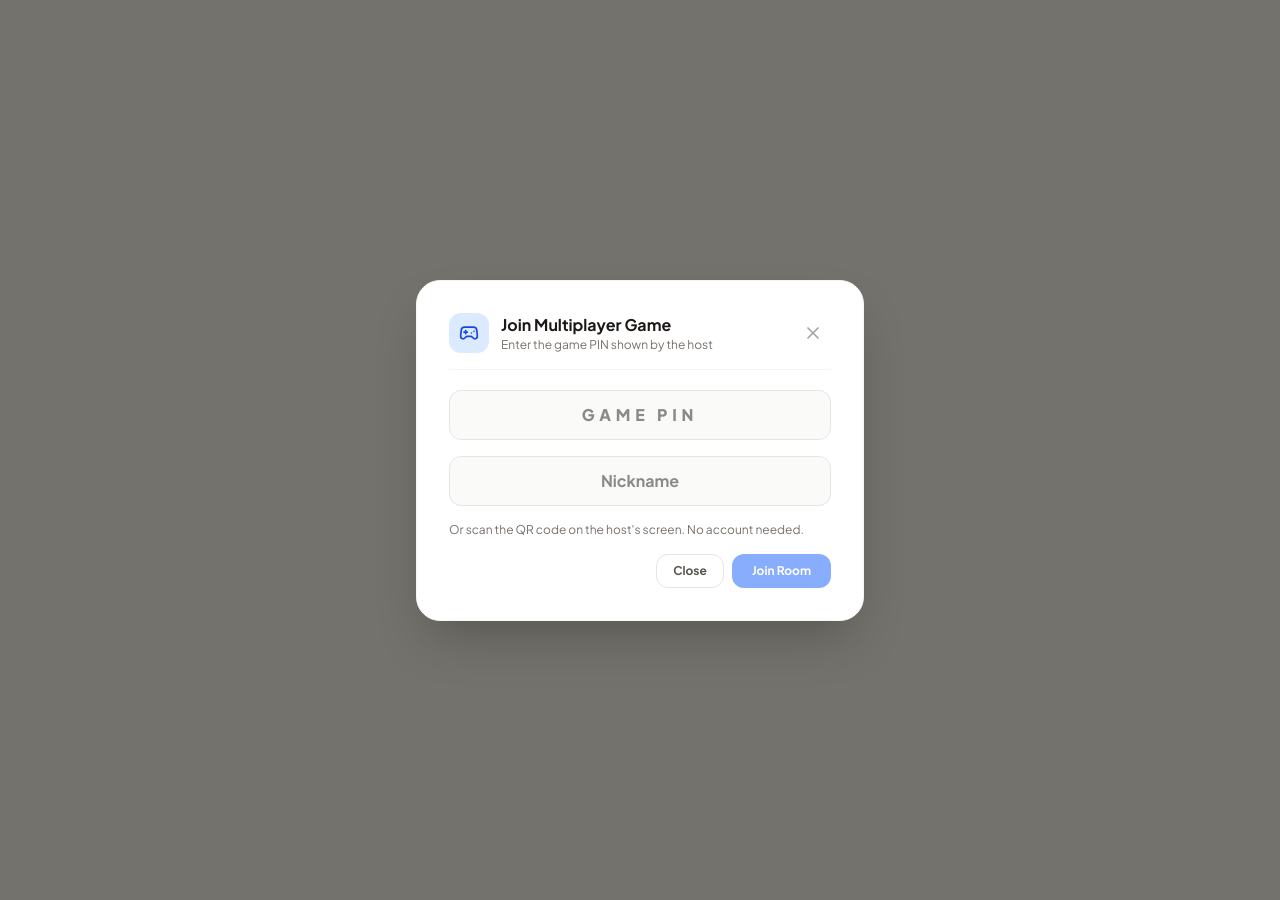
Test: JoinGameModal › keeps only six digits and enables join once the PIN is complete
The image size is (1280, 900).
Type "12ab34" into the field with test id "join-game-code-input". click: point(640, 414)
box: [449, 390, 831, 440]
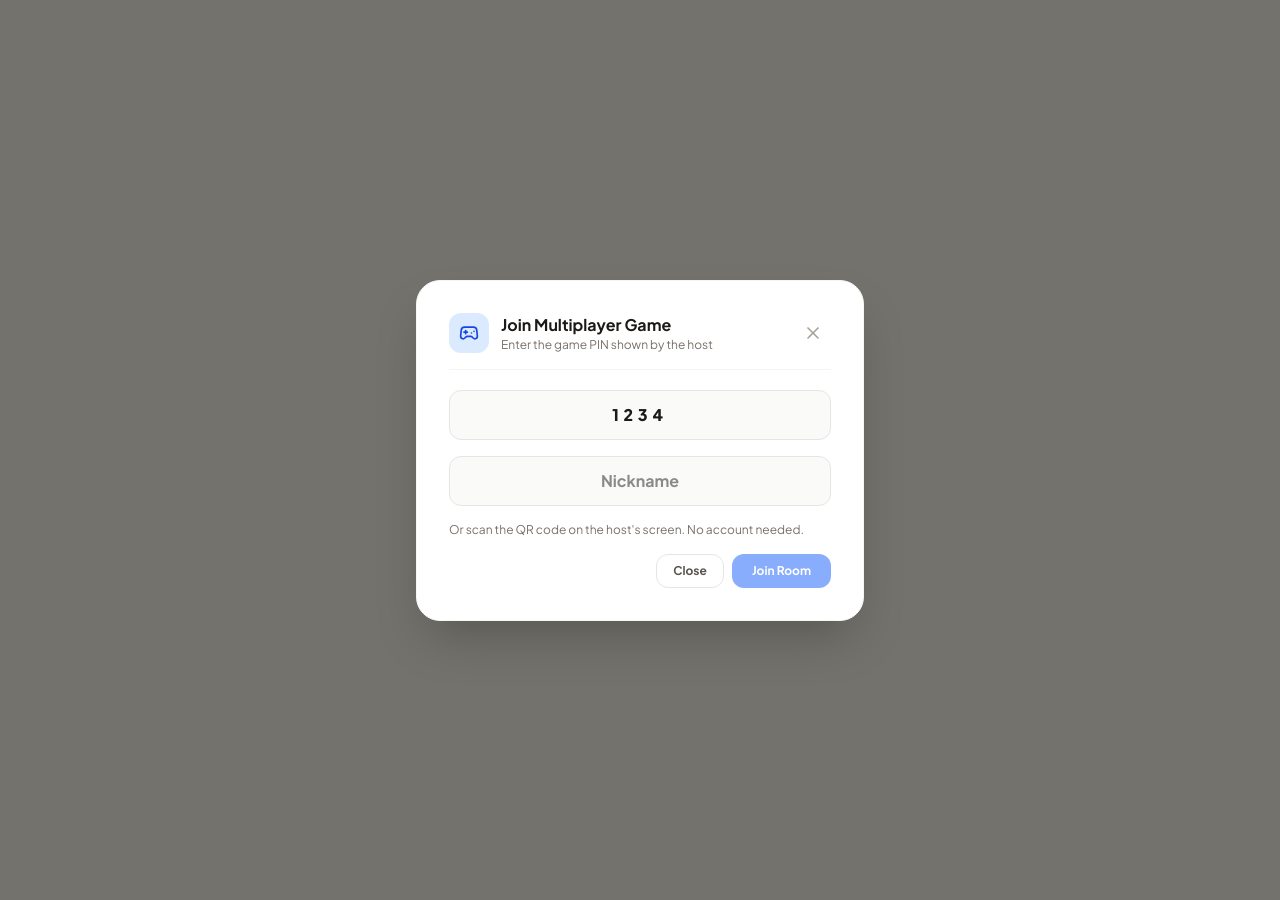
expect the button with test id "btn-join-game-submit" is disabled: met, box [732, 554, 831, 588]
expect the field with test id "join-game-code-input" holds "1234": met
Replace the text in the field with test id "join-game-code-input" with "1234567". click: point(640, 414)
box: [449, 390, 831, 440]
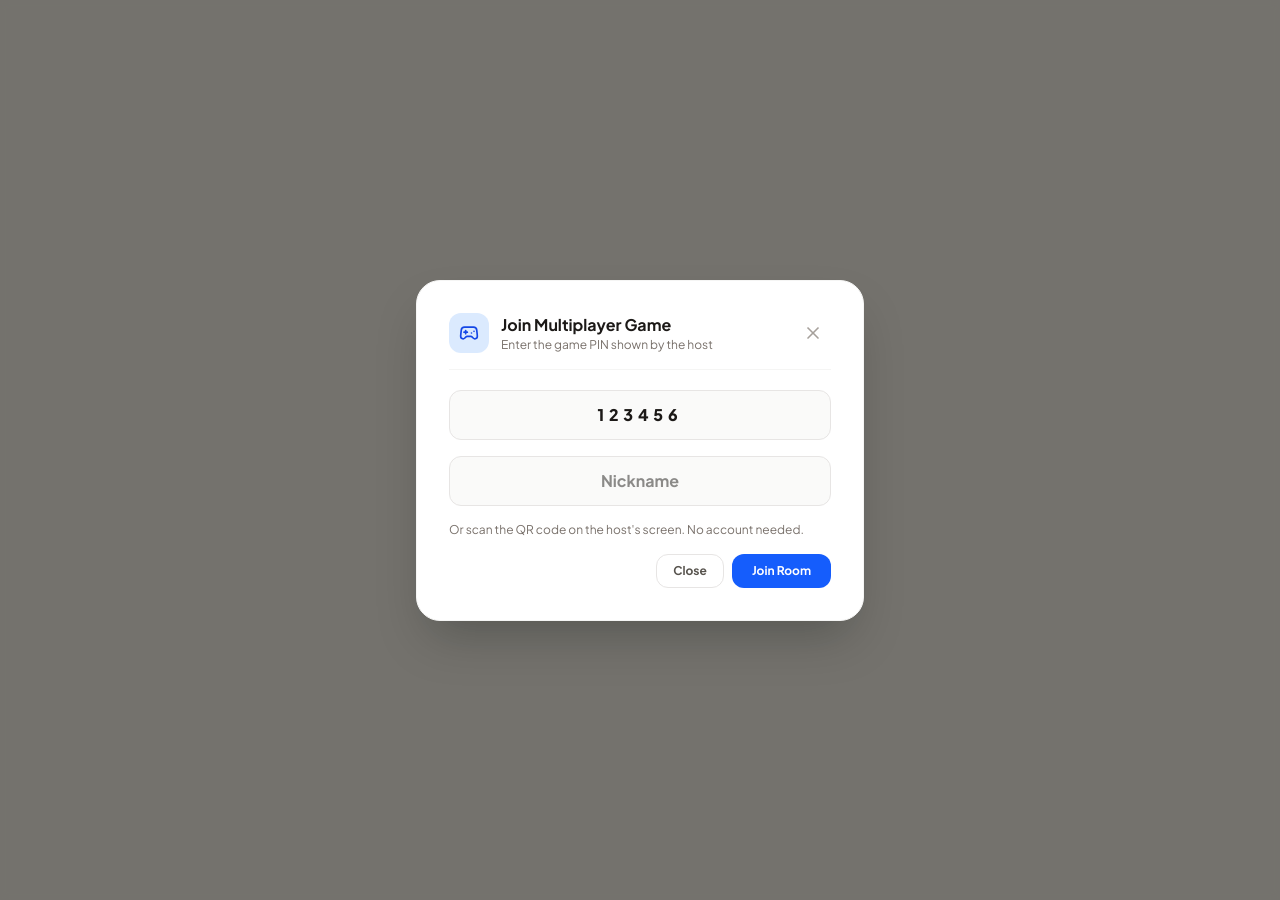
expect the field with test id "join-game-code-input" holds "123456": met, box [449, 390, 831, 440]
expect the button with test id "btn-join-game-submit" is enabled: met, box [732, 554, 831, 588]
